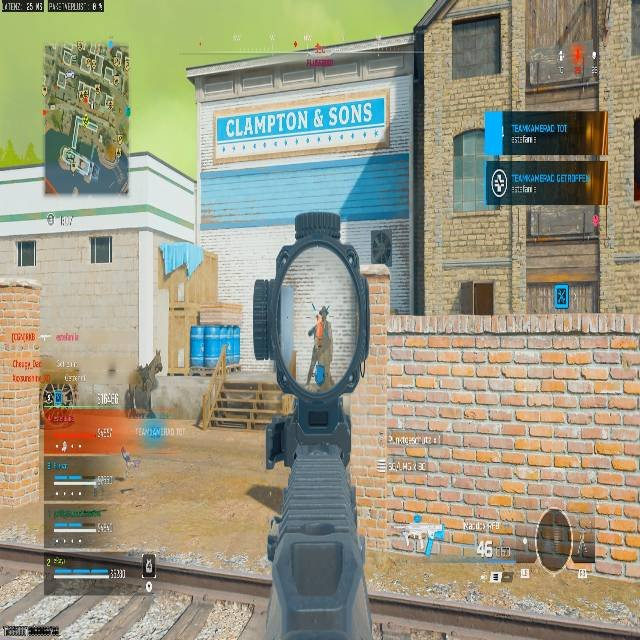head: (319, 304, 330, 315)
player: (307, 304, 333, 385)
